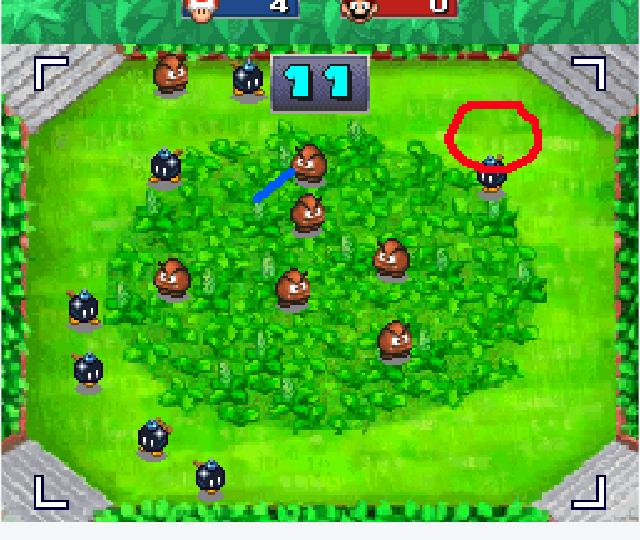goomba: (291, 138, 320, 184)
